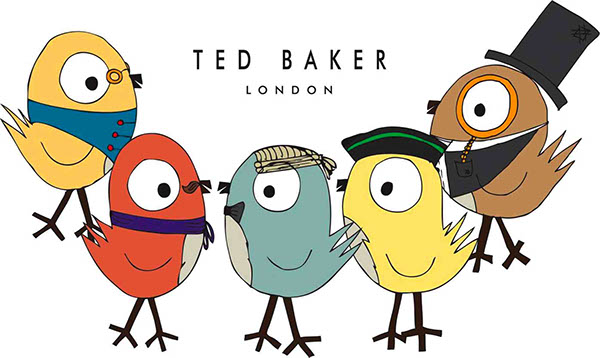bird: (415, 62, 585, 284), (214, 135, 357, 358), (5, 23, 138, 237), (340, 131, 464, 353), (94, 131, 212, 356)
